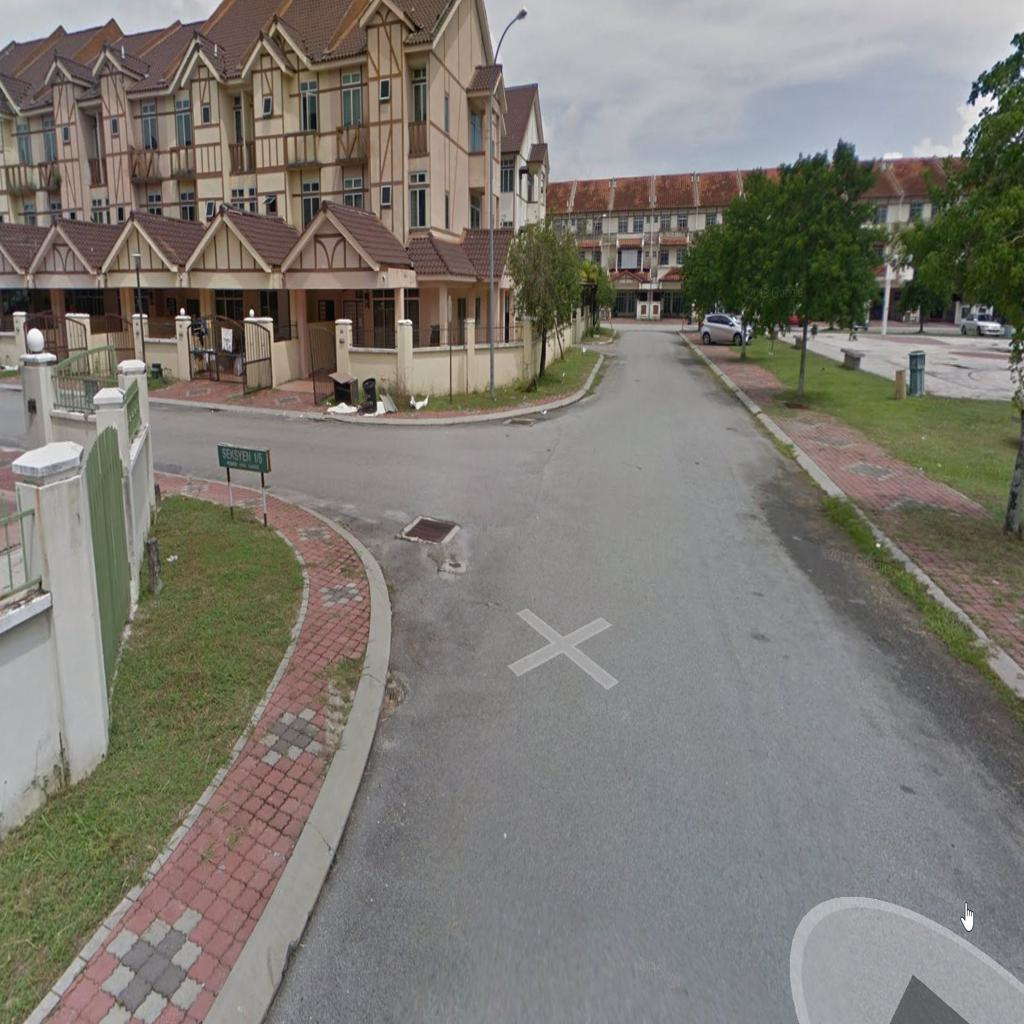Junction: (171, 378, 627, 707)
